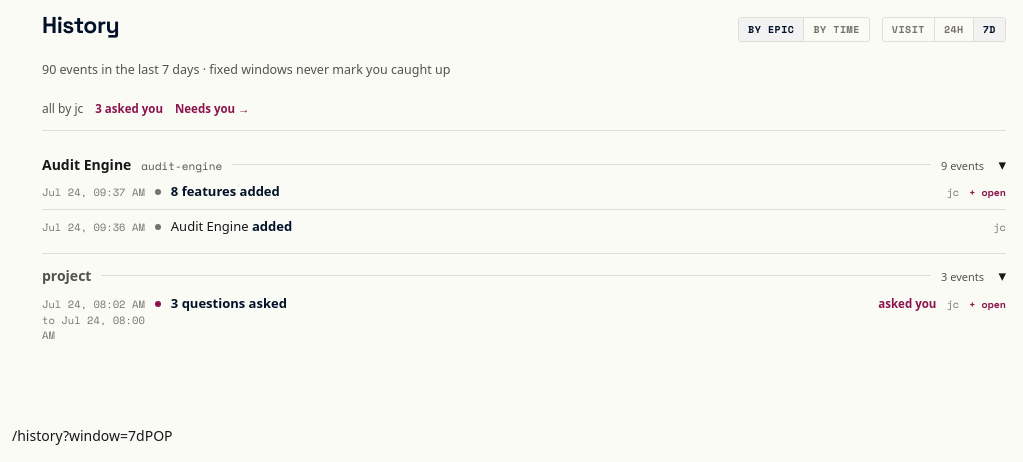
Test: History view: the grouping toggle's own URL semantics › keeps the window param when switching grouping
The width and height of the screenshot is (1023, 462).
Expected: the text "90 events" is shown, top-left (42, 60), bottom-right (450, 78)
Click the link "by time".
click(836, 30)  # box top-left (803, 18), bottom-right (869, 41)
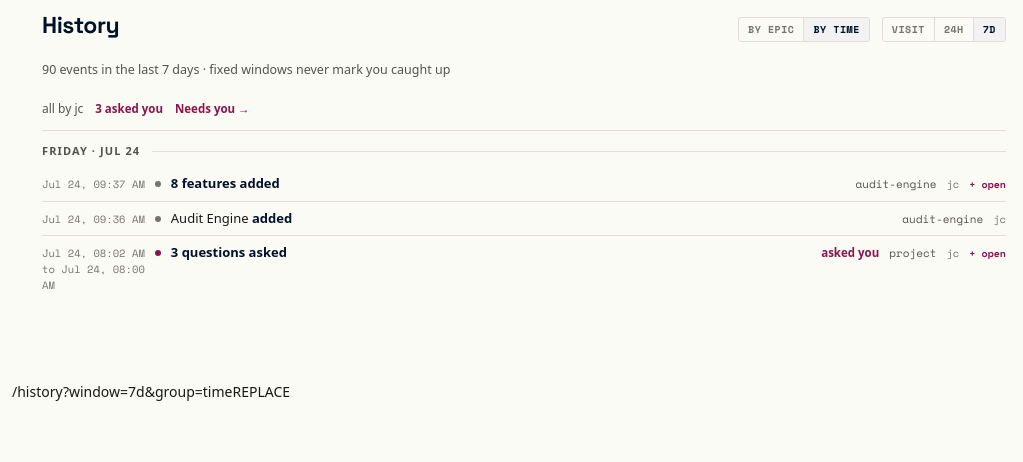
Now the text with test id "loc" reads "/history?window=7d&group=time", box top-left (12, 382), bottom-right (232, 400)
